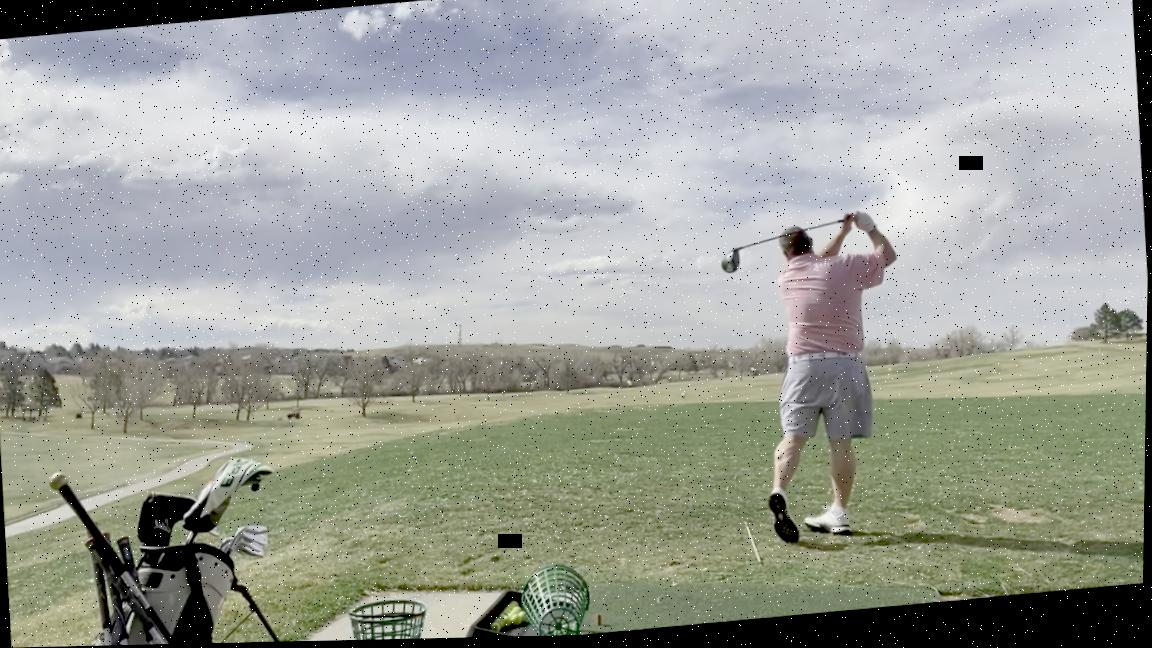ClubHead: (714, 245, 749, 284)
